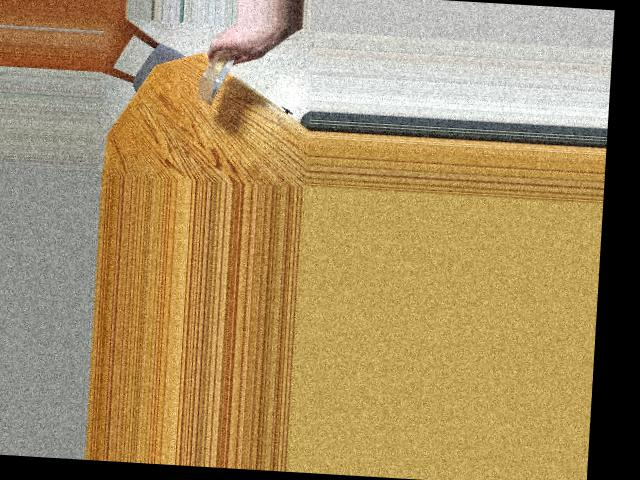cheese: (196, 40, 236, 108)
